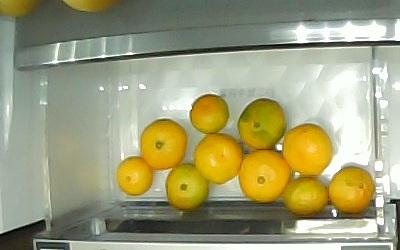tangerine: (280, 122, 333, 177), (237, 149, 291, 202), (191, 131, 244, 184), (235, 97, 287, 150), (138, 117, 187, 170), (327, 165, 374, 213), (163, 161, 209, 209), (280, 177, 328, 214), (188, 92, 229, 134), (115, 155, 153, 196)
